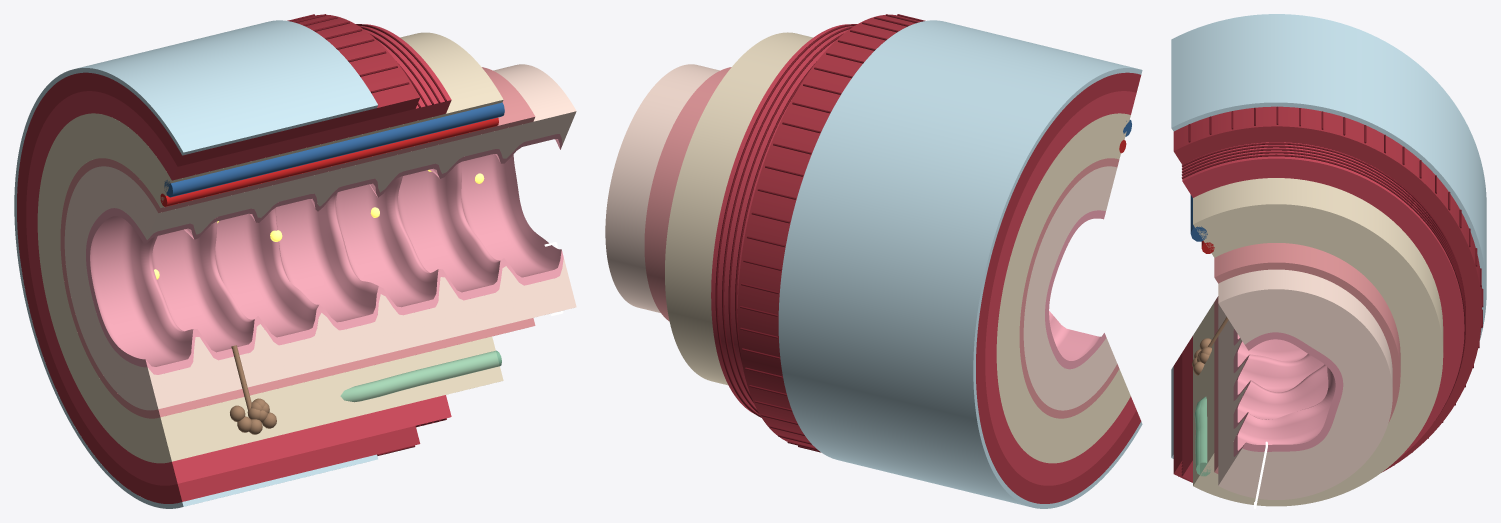
Rendered from gutwall.glb.
The picture shows the model from 3 angles, left to right: view 1: azimuth 30°, elevation 25°; view 2: azimuth 150°, elevation 25°; view 3: azimuth 270°, elevation 25°; orthographic projection. The views are drawn at different scales.
Visible parts, largest first — view 1: cz-epithelium, cz-externa, cz-lamina, cz-submucosa, cz-serosa, cz-mm, cz-bloodvessels, cz-lymph, cz-muscle-fibres, cz-glands; view 2: cz-serosa, cz-externa, cz-submucosa, cz-lamina, cz-mm, cz-muscle-fibres, cz-epithelium; view 3: cz-serosa, cz-externa, cz-submucosa, cz-lamina, cz-epithelium, cz-mm, cz-muscle-fibres, cz-lymph, cz-glands, cz-bloodvessels.
Part boxes in pixels (x1,y1,x2,y2): cz-epithelium: [86, 134, 563, 374]; cz-externa: [17, 14, 451, 503]; cz-lamina: [64, 64, 576, 410]; cz-submucosa: [37, 32, 503, 463]; cz-serosa: [14, 20, 377, 508]; cz-mm: [60, 67, 535, 418]; cz-bloodvessels: [160, 102, 504, 206]; cz-lymph: [340, 350, 501, 402]; cz-muscle-fibres: [287, 14, 446, 455]; cz-glands: [230, 345, 276, 434]; cz-serosa: [778, 20, 1142, 508]; cz-externa: [711, 14, 1141, 503]; cz-submucosa: [665, 32, 1130, 463]; cz-lamina: [605, 64, 1117, 410]; cz-mm: [644, 67, 1119, 418]; cz-muscle-fibres: [715, 14, 925, 452]; cz-epithelium: [1045, 210, 1106, 369]; cz-serosa: [1171, 14, 1486, 458]; cz-externa: [1173, 106, 1481, 482]; cz-submucosa: [1193, 178, 1443, 506]; cz-lamina: [1218, 269, 1392, 499]; cz-epithelium: [1233, 329, 1343, 456]; cz-mm: [1214, 243, 1400, 473]; cz-muscle-fibres: [1178, 106, 1483, 476]; cz-lymph: [1194, 396, 1210, 476]; cz-glands: [1192, 317, 1228, 375]; cz-bloodvessels: [1190, 195, 1214, 253].
Size of the model in its own units: 11.78 by 10.84 by 8.13.
